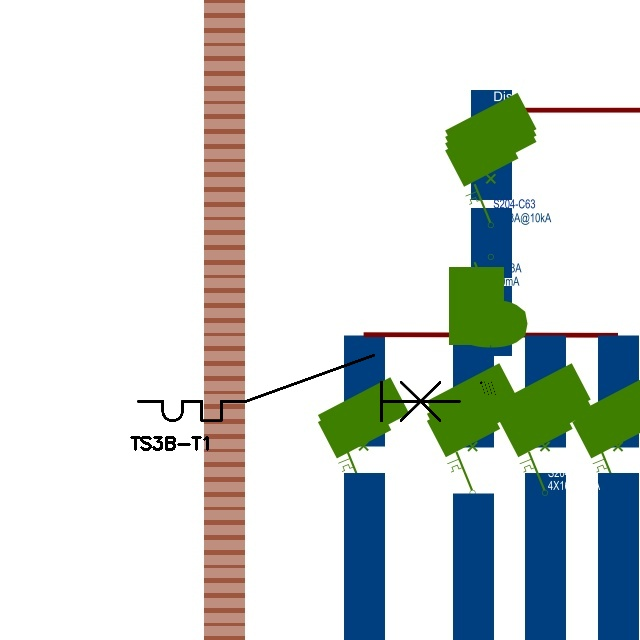interruptor_termomagnetico: (130, 347, 468, 429)
